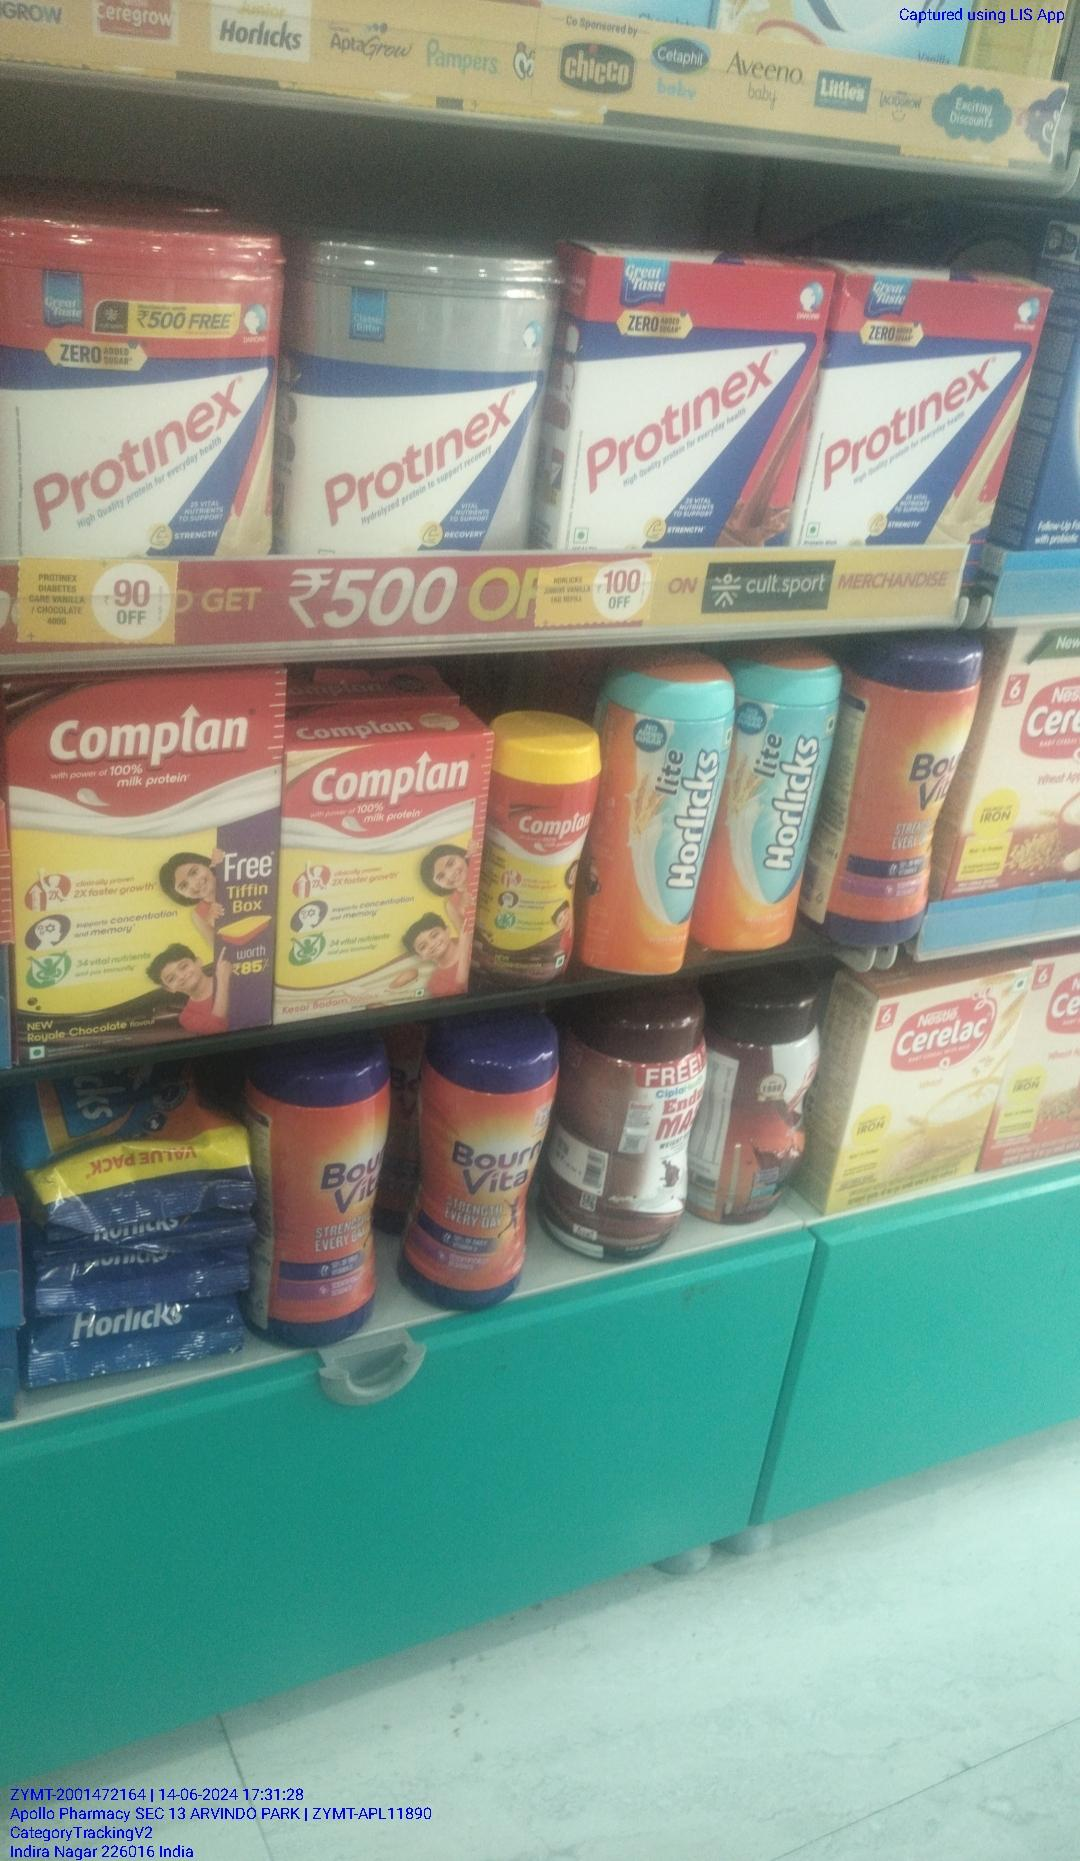BOURN_VITA_1_KG_JAR: (851, 643, 980, 951), (409, 1035, 550, 1313), (269, 1045, 384, 1343)
COMPLAN_CHOCOLATE_200_GMS_JAR: (487, 734, 595, 984)
COMPLAN_CHOCOLATE_500_GMS_PACK: (6, 673, 274, 1050)
COMPLAN_KESAR_BADAM_200_GMS_PACK: (280, 744, 485, 1019)
HORLICKS_LITE_REGULAR_MALT_500_GM_JAR: (600, 664, 726, 981), (737, 667, 834, 951)
PROTINEX_ORIGINAL_400_G_JAR: (280, 242, 541, 549)
PROTINEX_VANILLA_400_G_JAR: (0, 226, 271, 557)
